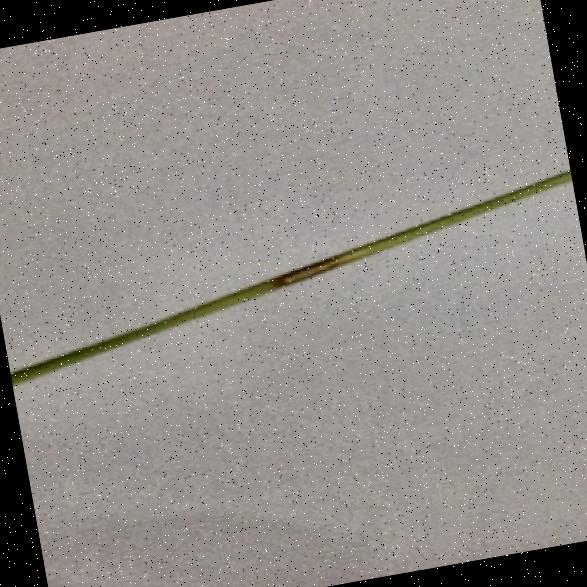Leaf_smut: (255, 253, 340, 292)
